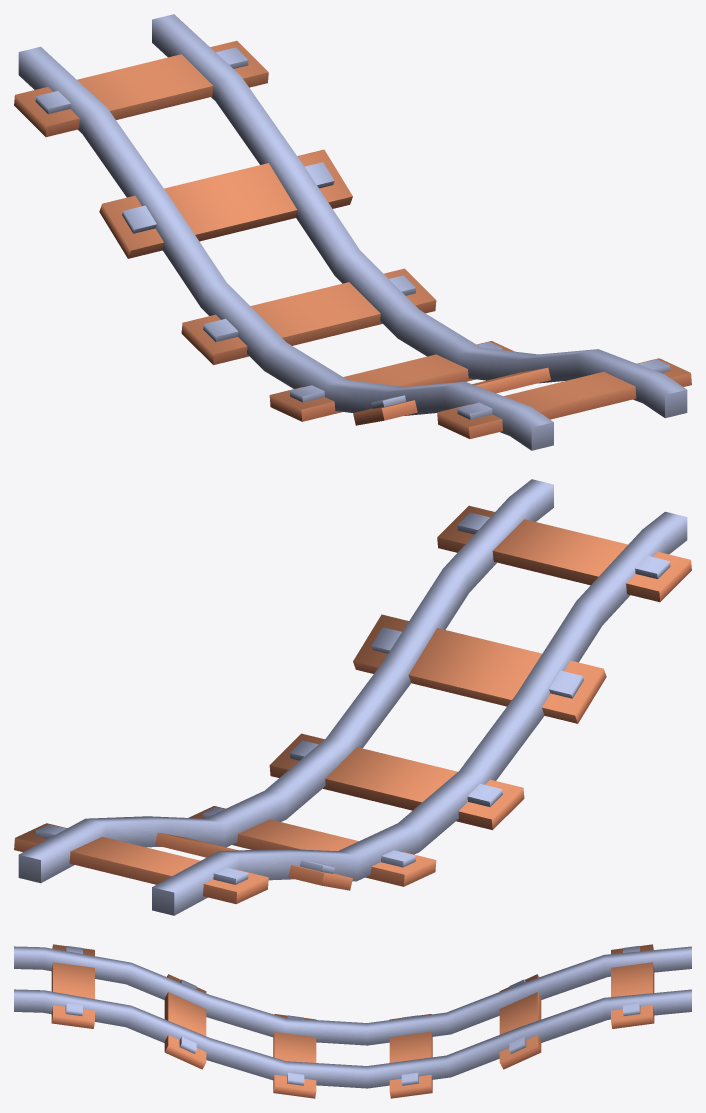
The model's file is railroad-straight-bump-down.glb.
3 views of the same model, one above another, from view 1: azimuth 30°, elevation 25°; view 2: azimuth 150°, elevation 25°; view 3: azimuth 270°, elevation 25° (orthographic). The views are drawn at different scales.
Parts seen in each view (by area): view 1: railroad-straight-bump-down; view 2: railroad-straight-bump-down; view 3: railroad-straight-bump-down.
Part boxes in pixels (x1=…): railroad-straight-bump-down: x1=14, y1=14, x2=691, y2=450; railroad-straight-bump-down: x1=14, y1=479, x2=691, y2=915; railroad-straight-bump-down: x1=14, y1=944, x2=691, y2=1098.
Bounding box in the file's own units: 1 × 0.5987 × 4.
Materials: 1 (1 with a texture image).
